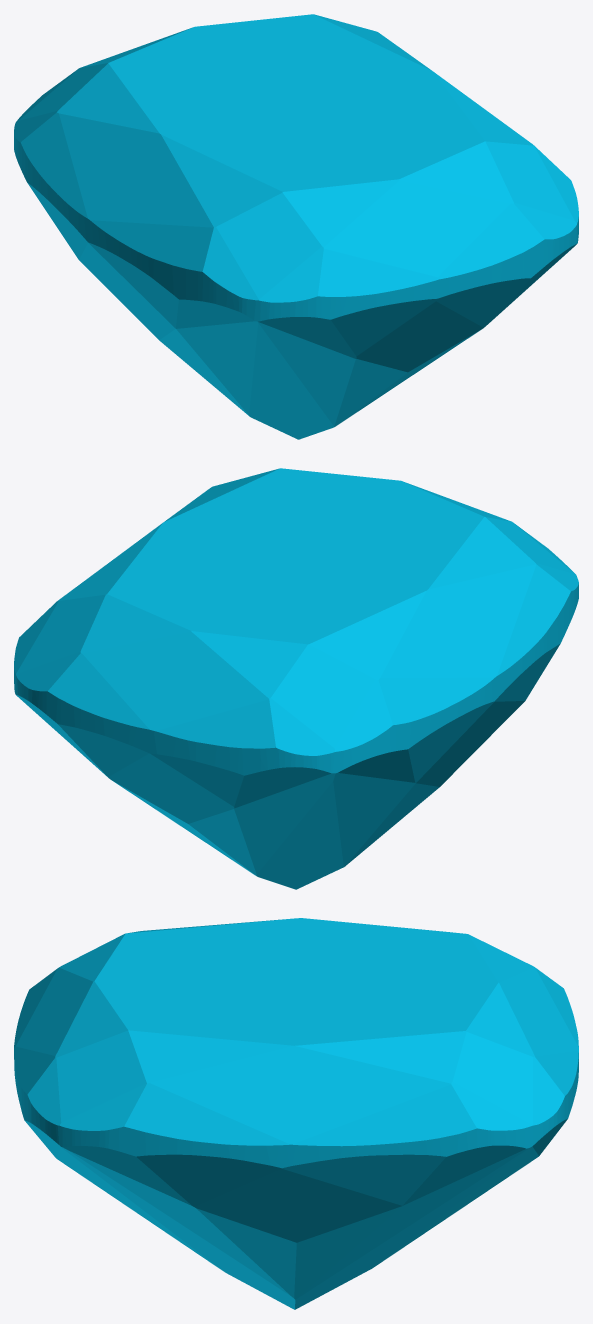
File: Head_No Halo_Elongated Cushion_0.75ct_Diamond.glb
3 views of the same model, one above another, from view 1: azimuth 30°, elevation 25°; view 2: azimuth 150°, elevation 25°; view 3: azimuth 270°, elevation 25° (orthographic). The views are drawn at different scales.
Bounding box in the file's own units: 0.00456 × 0.0036 × 0.00562.
